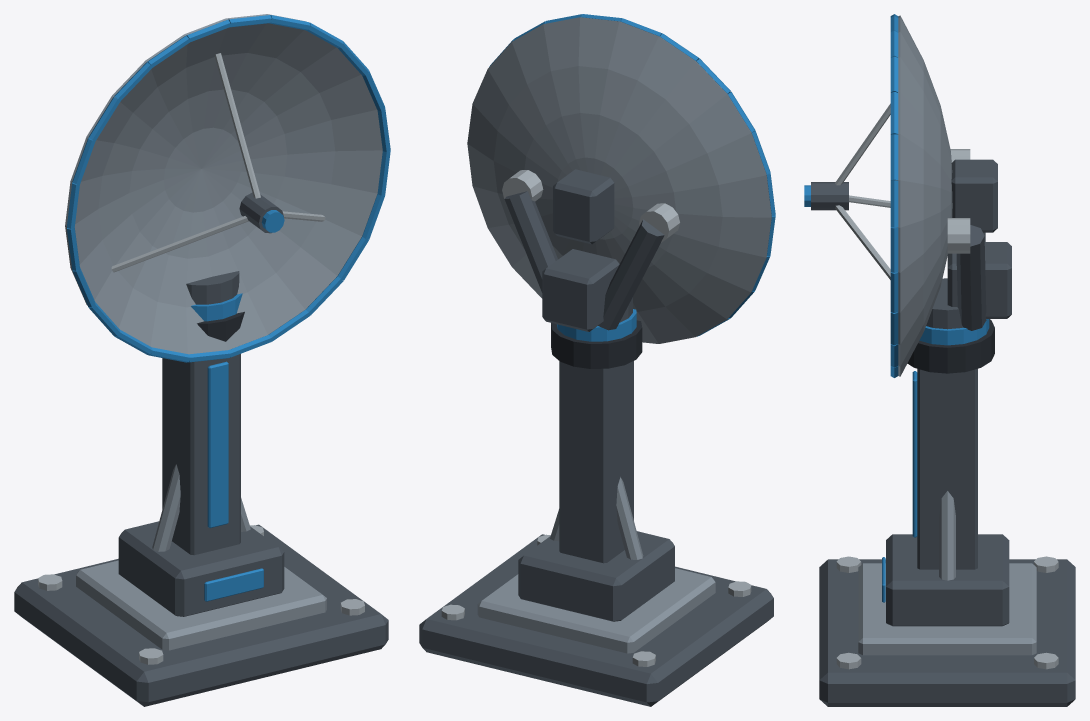
Rendered from Radar_01.fbx.
3 renders of one model, left to right at view 1: azimuth 30°, elevation 25°; view 2: azimuth 150°, elevation 25°; view 3: azimuth 270°, elevation 25°, orthographic. The views are drawn at different scales.
Parts seen in each view (by area): view 1: Radar_01_Dish, Radar_01_Base, Radar_01_RotatingMount; view 2: Radar_01_Dish, Radar_01_Base, Radar_01_RotatingMount; view 3: Radar_01_Base, Radar_01_Dish, Radar_01_RotatingMount.
Boxes of the visible parts, bbox=[...] form: Radar_01_Dish: bbox=[65, 14, 390, 362]; Radar_01_Base: bbox=[14, 354, 388, 706]; Radar_01_RotatingMount: bbox=[186, 271, 244, 341]; Radar_01_Dish: bbox=[467, 14, 775, 343]; Radar_01_Base: bbox=[419, 361, 773, 706]; Radar_01_RotatingMount: bbox=[502, 170, 679, 368]; Radar_01_Base: bbox=[819, 368, 1075, 706]; Radar_01_Dish: bbox=[804, 14, 997, 377]; Radar_01_RotatingMount: bbox=[907, 149, 1011, 373].
Size of the model in its own units: 1.93 by 3.6 by 1.43.
